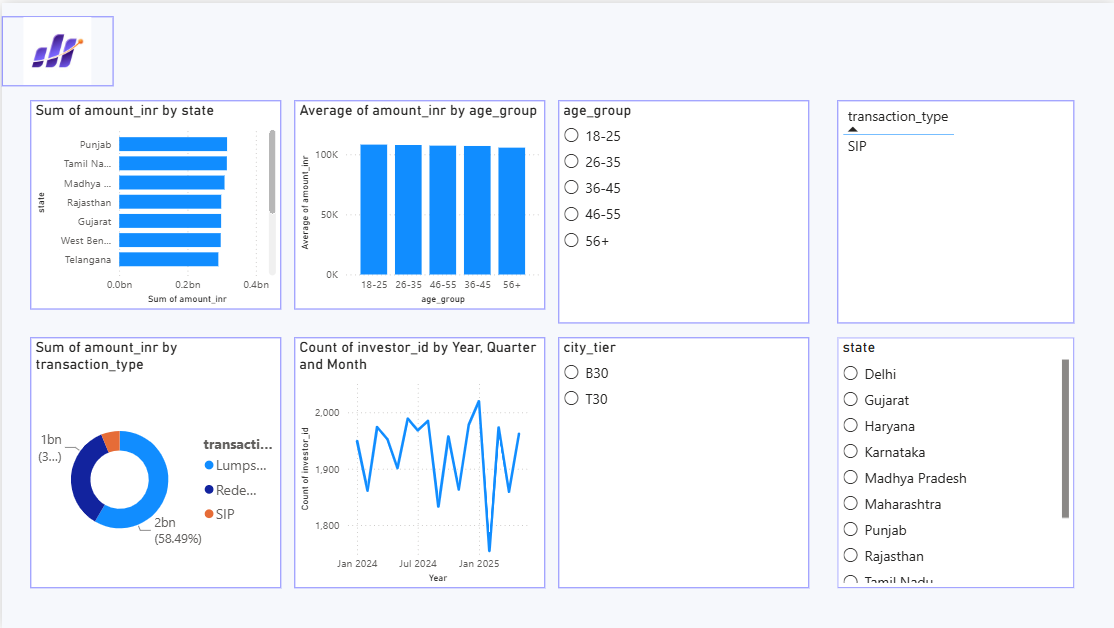

What the dashboard file says about the page in this screenshot:
{"tool":"powerbi","page":{"name":"Investor Analytics","canvas":[1280,720],"ordinal":2},"visuals":[{"type":"clusteredBarChart","fields":{"Category":["08_investor_transactions_clean.state"],"Y":["Sum(08_investor_transactions_clean.amount_inr)"]},"box":[32,112,288,240],"z":0},{"type":"donutChart","fields":{"Category":["08_investor_transactions_clean.transaction_type"],"Y":["Sum(08_investor_transactions_clean.amount_inr)"]},"box":[32,384,288,288],"z":1000},{"type":"clusteredColumnChart","fields":{"Category":["08_investor_transactions_clean.age_group"],"Y":["Avg(08_investor_transactions_clean.amount_inr)"]},"box":[336,112,288,240],"z":2000},{"type":"tableEx","fields":{"Values":["08_investor_transactions_clean.transaction_type"]},"box":[960,112,272,256],"z":3000},{"type":"lineChart","fields":{"Y":["CountNonNull(08_investor_transactions_clean.investor_id)"],"Category":["Calendar.Date.Variation.Date Hierarchy.Year","Calendar.Date.Variation.Date Hierarchy.Quarter","Calendar.Date.Variation.Date Hierarchy.Month","Calendar.Date.Variation.Date Hierarchy.Day"]},"box":[336,384,288,288],"z":4000},{"type":"listSlicer","fields":{"Values":["08_investor_transactions_clean.city_tier"]},"box":[640,384,288,288],"z":5000},{"type":"listSlicer","fields":{"Values":["08_investor_transactions_clean.state"]},"box":[960,384,272,288],"z":6000},{"type":"listSlicer","fields":{"Values":["08_investor_transactions_clean.age_group"]},"box":[640,112,288,256],"z":7000},{"type":"image","box":[0,16,128,80],"z":8001}]}

Visuals, with their boxes in screenshot pixels (x1, y1, x2, y2), scaled from the page's 1280x720 canvas onto the 1114x628 screenshot:
clusteredBarChart - 08_investor_transactions_clean.state x Sum(08_investor_transactions_clean.amount_inr): l=28, t=98, r=278, b=307
donutChart - 08_investor_transactions_clean.transaction_type x Sum(08_investor_transactions_clean.amount_inr): l=28, t=335, r=278, b=586
clusteredColumnChart - 08_investor_transactions_clean.age_group x Avg(08_investor_transactions_clean.amount_inr): l=292, t=98, r=543, b=307
tableEx - 08_investor_transactions_clean.transaction_type: l=836, t=98, r=1072, b=321
lineChart - CountNonNull(08_investor_transactions_clean.investor_id) x Calendar.Date.Variation.Date Hierarchy.Year: l=292, t=335, r=543, b=586
listSlicer - 08_investor_transactions_clean.city_tier: l=557, t=335, r=808, b=586
listSlicer - 08_investor_transactions_clean.state: l=836, t=335, r=1072, b=586
listSlicer - 08_investor_transactions_clean.age_group: l=557, t=98, r=808, b=321
image: l=0, t=14, r=111, b=84
